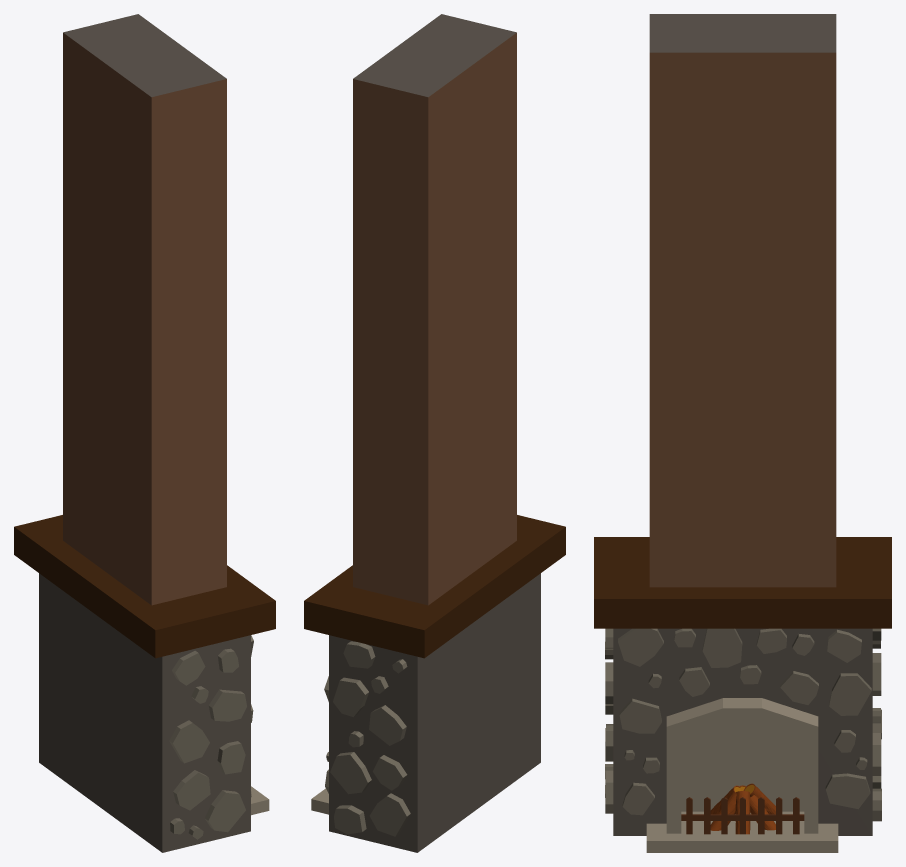
The model's file is Fireplace.fbx.
3 renders of one model, left to right at view 1: azimuth 30°, elevation 25°; view 2: azimuth 150°, elevation 25°; view 3: azimuth 270°, elevation 25°, orthographic. The views are drawn at different scales.
Parts seen in each view (by area): view 1: Cube, Cylinder.022, Cylinder.021, Cylinder.019, Cylinder.018, Cylinder.025, Cylinder.026; view 2: Cube, Cylinder.033, Cylinder.034, Cylinder.036, Cylinder.037, Cylinder.030, Cylinder.029, Cylinder.028; view 3: Cube, Cube.001, Cube.005, Cylinder.002, Cylinder.009, Cylinder.001, Cylinder.012, Cylinder, Cylinder.006, Cylinder.010, Cylinder.015, Cylinder.005 (+1 smaller).
Boxes of the visible parts, bbox=[...] form: Cube: bbox=[14, 14, 275, 852]; Cylinder.022: bbox=[204, 790, 245, 832]; Cylinder.021: bbox=[169, 720, 209, 763]; Cylinder.019: bbox=[173, 770, 210, 810]; Cylinder.018: bbox=[208, 689, 246, 721]; Cylinder.025: bbox=[217, 741, 245, 774]; Cylinder.026: bbox=[172, 650, 205, 685]; Cube: bbox=[304, 14, 565, 852]; Cylinder.033: bbox=[330, 752, 371, 794]; Cylinder.034: bbox=[369, 793, 410, 836]; Cylinder.036: bbox=[369, 705, 406, 745]; Cylinder.037: bbox=[333, 677, 368, 716]; Cylinder.030: bbox=[334, 805, 366, 834]; Cylinder.029: bbox=[373, 755, 407, 790]; Cylinder.028: bbox=[343, 641, 375, 668]; Cube: bbox=[594, 14, 891, 835]; Cube.001: bbox=[646, 698, 838, 852]; Cube.005: bbox=[681, 797, 804, 834]; Cylinder.002: bbox=[702, 628, 742, 667]; Cylinder.009: bbox=[829, 673, 871, 715]; Cylinder.001: bbox=[618, 628, 663, 666]; Cylinder.012: bbox=[825, 773, 870, 809]; Cylinder: bbox=[619, 698, 661, 733]; Cylinder.006: bbox=[780, 671, 818, 704]; Cylinder.010: bbox=[827, 629, 861, 662]; Cylinder.015: bbox=[622, 782, 654, 815]; Cylinder.005: bbox=[679, 667, 709, 696].
Size of the model in its own units: 488 by 2510 by 861.
